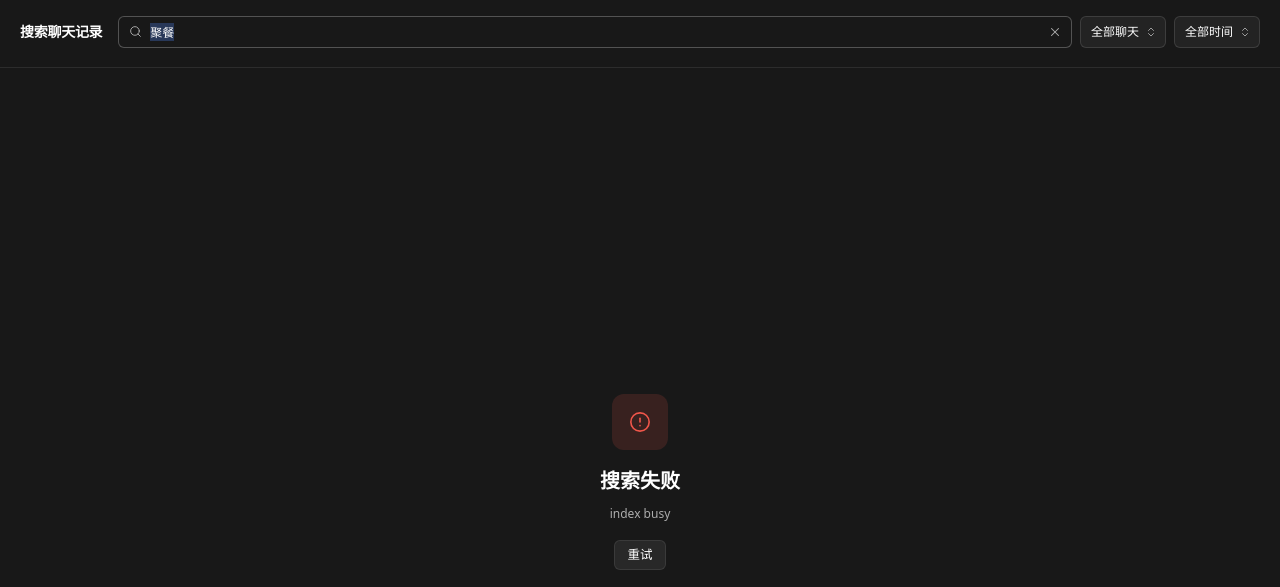
Test case: SearchTab › shows a failure with 重试
Expected: the message shows "搜索失败", [600,467,680,494]
Expected: the message shows "index busy", [610,505,670,522]
Click the button "重试".
click(640, 555)  # box [614,540,666,570]
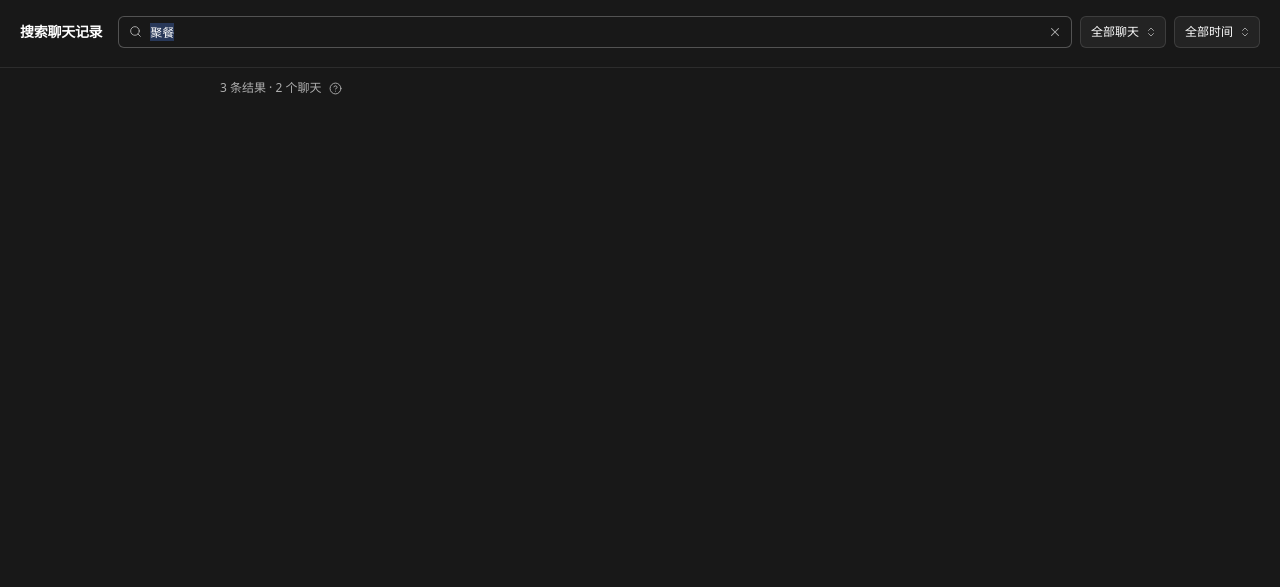
Expected: the text "3 条结果 · 2 个聊天" is shown, [220,80,321,96]
